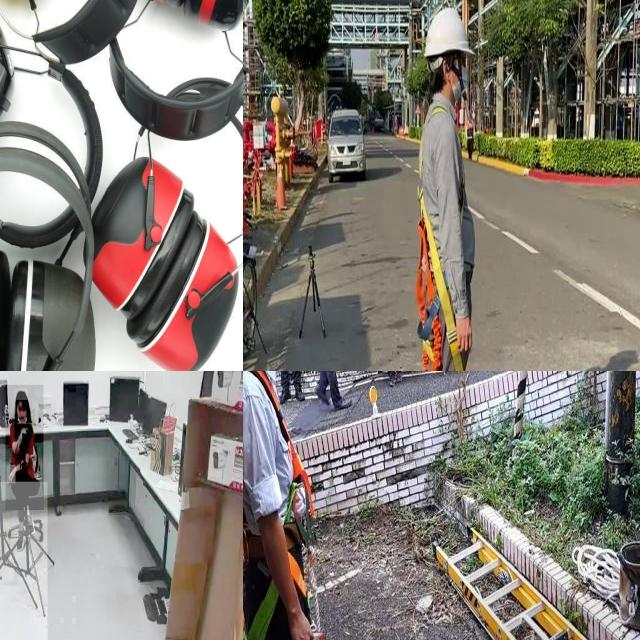Ear-protection: (81, 156, 181, 314), (153, 214, 240, 371), (2, 255, 96, 371)
Harness: (243, 371, 315, 640), (417, 196, 465, 371)
hand_noglove: (6, 465, 16, 484)
head_nohelmet: (14, 388, 28, 401)
person: (6, 385, 44, 510)
shoes: (12, 521, 28, 555), (23, 507, 37, 535)
